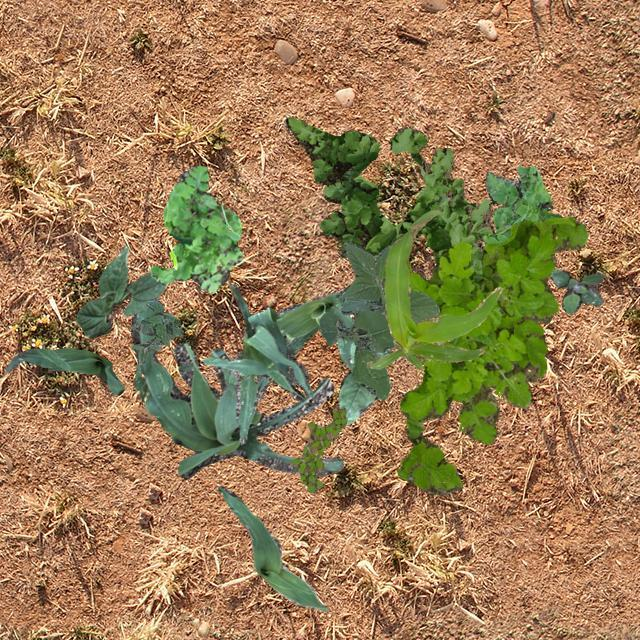crop: (130, 306, 342, 478), (366, 208, 502, 368), (202, 282, 312, 443), (226, 290, 352, 400), (216, 484, 326, 610), (76, 245, 166, 336), (5, 346, 124, 394), (338, 341, 390, 424)
weed: (396, 216, 586, 494), (284, 116, 492, 274), (317, 240, 438, 398), (150, 165, 242, 292), (482, 164, 560, 244), (288, 404, 346, 492), (130, 297, 182, 363), (550, 268, 602, 314)
